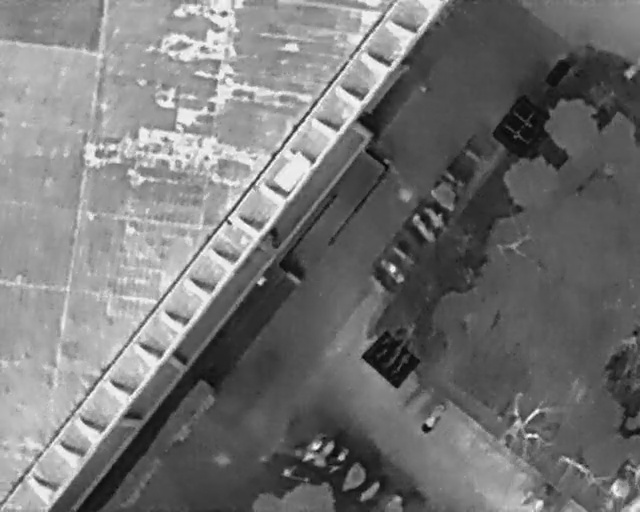Bicycle: (321, 440, 356, 481), (417, 397, 452, 435), (336, 461, 371, 496), (417, 200, 450, 234), (388, 240, 421, 273), (408, 210, 439, 245), (376, 254, 408, 286), (356, 476, 384, 507), (311, 436, 337, 469), (366, 272, 395, 301), (298, 433, 324, 465)
